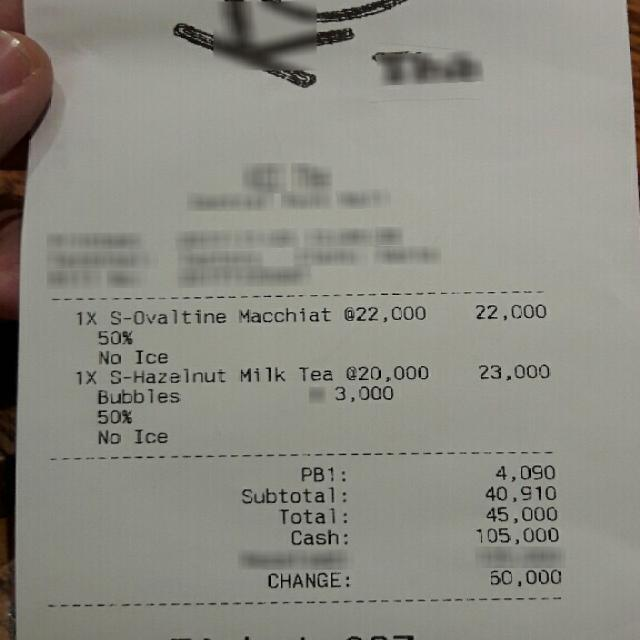kertas: (16, 0, 638, 640)
